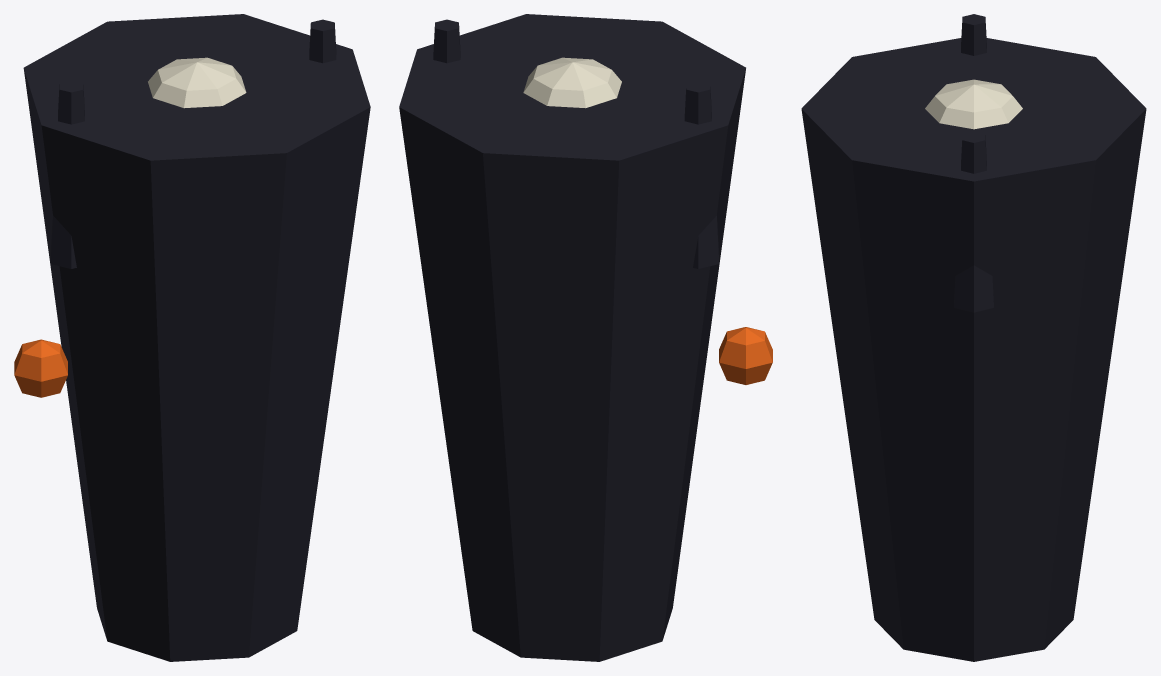
Rendered from r01-haunted-estate__wraith.obj.
3 views of the same model, side by side, from view 1: azimuth 30°, elevation 25°; view 2: azimuth 150°, elevation 25°; view 3: azimuth 270°, elevation 25° (orthographic). The views are drawn at different scales.
Parts seen in each view (by area): view 1: wraith_shroud, wraith_mask, wraith_lantern, wraith_sleeve_l, wraith_sleeve_r; view 2: wraith_shroud, wraith_mask, wraith_lantern, wraith_sleeve_l, wraith_sleeve_r; view 3: wraith_shroud, wraith_mask, wraith_sleeve_r, wraith_sleeve_l.
Part boxes in pixels (box(x1,y1,x2,y2)): wraith_shroud: box(23, 14, 370, 661); wraith_mask: box(148, 57, 246, 108); wraith_lantern: box(14, 339, 67, 397); wraith_sleeve_l: box(50, 81, 84, 268); wraith_sleeve_r: box(309, 19, 336, 63); wraith_shroud: box(399, 14, 745, 661); wraith_mask: box(523, 57, 621, 108); wraith_lantern: box(719, 327, 772, 384); wraith_sleeve_l: box(684, 81, 719, 268); wraith_sleeve_r: box(433, 19, 460, 63); wraith_shroud: box(801, 38, 1146, 661); wraith_mask: box(925, 79, 1022, 129); wraith_sleeve_r: box(954, 132, 993, 312); wraith_sleeve_l: box(961, 14, 986, 55).
Size of the model in its own units: 1.16 by 1.8 by 1.04.
